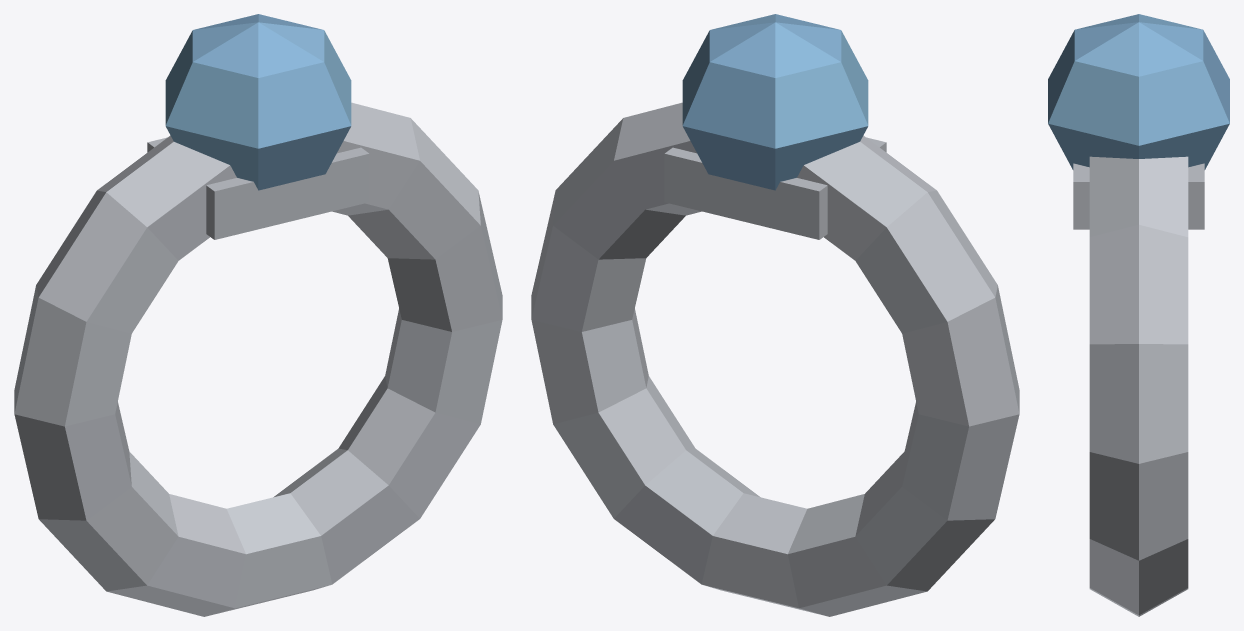
Rendered from ring_of_recall.glb.
3 renders of one model, left to right at view 1: azimuth 30°, elevation 25°; view 2: azimuth 150°, elevation 25°; view 3: azimuth 270°, elevation 25°, orthographic. The views are drawn at different scales.
Visible parts, largest first — view 1: ring_of_recall; view 2: ring_of_recall; view 3: ring_of_recall.
Part boxes in pixels (x1,y1,x2,y2): ring_of_recall: (14, 14, 502, 616); ring_of_recall: (531, 14, 1019, 616); ring_of_recall: (1048, 14, 1229, 616).
Size of the model in its own units: 0.126 by 0.1434 by 0.0416.
